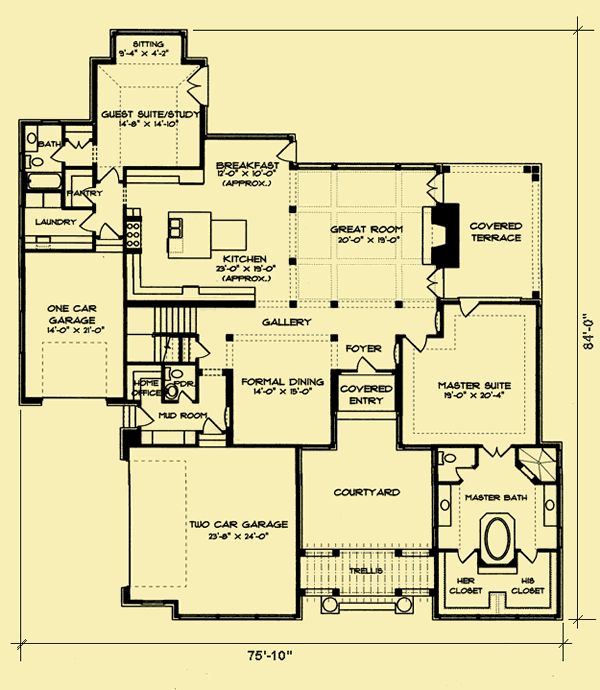door: (184, 65, 212, 107), (403, 333, 432, 358), (424, 265, 445, 299), (425, 175, 446, 204), (99, 165, 122, 187), (276, 141, 297, 162), (354, 356, 378, 374)
kitchen_bar: (163, 208, 251, 267)
small_sink: (438, 484, 456, 536), (540, 485, 558, 533)
stairs: (124, 306, 198, 365)
tub: (480, 511, 517, 566), (21, 171, 67, 195)
